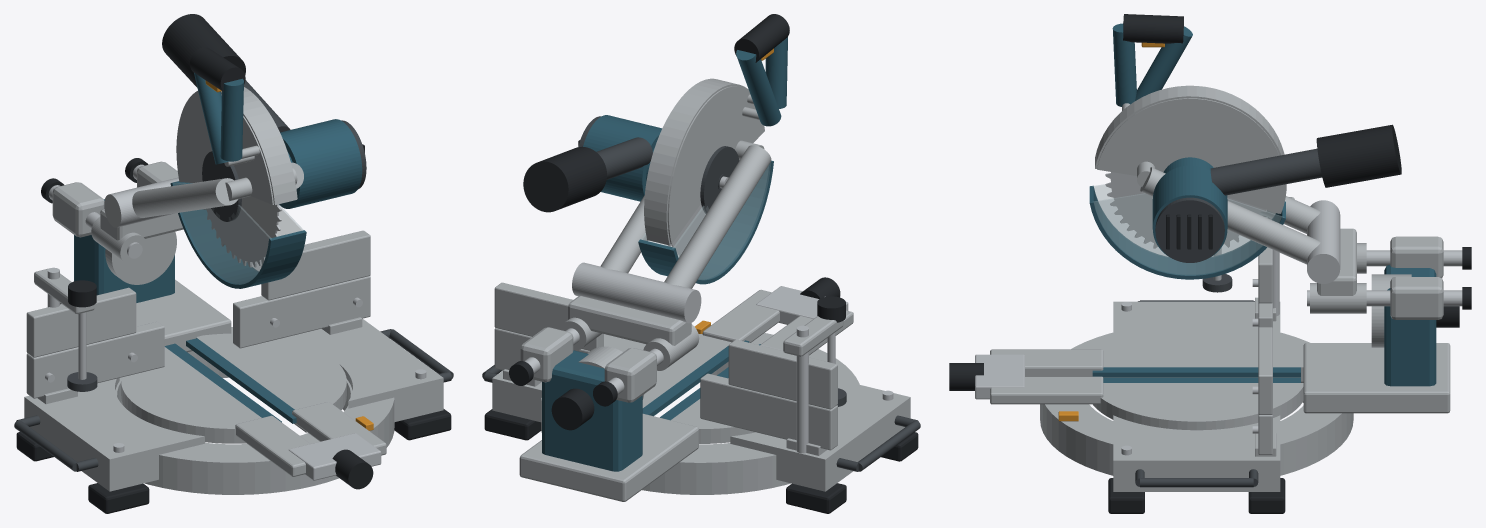
3 views of the same model, side by side, from view 1: azimuth 30°, elevation 25°; view 2: azimuth 150°, elevation 25°; view 3: azimuth 270°, elevation 25° (orthographic). The views are drawn at different scales.
Parts seen in each view (by area): view 1: Base wing -1, Base annular casting, Base wing 1, Table half -1, Table half 1, Fence lower 1, Fence lower -1, Motor housing, Fence upper -1, Lower guard side -1, Lower guard rim, Fence upper 1 (+32 smaller); view 2: Bevel carrier, Base wing -1, Turntable rear bridge, Upper guard side -1, Base annular casting, Fence lower -1, Fence upper -1, Head arm -1, Upper guard crown, Plunge pivot, Dust bag, Lower guard rim (+34 smaller); view 3: Upper guard side 1, Base wing 1, Turntable rear bridge, Base annular casting, Table half 1, Table half -1, Lower guard side 1, Base wing -1, Dust bag, Bevel carrier, Lower guard rim, Dust outlet (+30 smaller).
Boxes of the visible parts, box(x1,y1,x2,y2) form: Base wing -1: box(24, 378, 204, 491); Base annular casting: box(115, 327, 394, 494); Base wing 1: box(283, 318, 443, 422); Table half -1: box(121, 347, 261, 443); Table half 1: box(196, 333, 346, 432); Fence lower 1: box(233, 276, 370, 348); Fence lower -1: box(26, 321, 164, 398); Motor housing: box(279, 119, 362, 208); Fence upper -1: box(26, 287, 136, 357); Lower guard side -1: box(173, 183, 271, 284); Lower guard rim: box(170, 181, 306, 288); Fence upper 1: box(261, 230, 370, 300); Bevel carrier: box(542, 350, 642, 471); Base wing -1: box(730, 379, 910, 491); Turntable rear bridge: box(519, 413, 698, 501); Upper guard side -1: box(667, 86, 764, 244); Base annular casting: box(541, 333, 859, 494); Fence lower -1: box(700, 373, 837, 450); Fence upper -1: box(728, 339, 837, 409); Head arm -1: box(664, 145, 771, 288); Upper guard crown: box(644, 78, 749, 245); Plunge pivot: box(572, 262, 701, 323); Dust bag: box(523, 146, 606, 212); Lower guard rim: box(638, 160, 773, 284); Upper guard side 1: box(1097, 98, 1284, 213); Base wing 1: box(1113, 415, 1280, 491); Turntable rear bridge: box(1303, 343, 1450, 413); Base annular casting: box(1040, 332, 1353, 475); Table half 1: box(1093, 383, 1303, 430); Table half -1: box(1103, 328, 1303, 381); Lower guard side 1: box(1093, 193, 1283, 275); Base wing -1: box(1113, 301, 1280, 344); Dust bag: box(1316, 124, 1401, 187); Bevel carrier: box(1384, 265, 1436, 386); Lower guard rim: box(1089, 185, 1285, 279); Dust outlet: box(1210, 148, 1322, 195).
Bounding box in the file's own units: 0.644 × 0.66 × 0.783.
